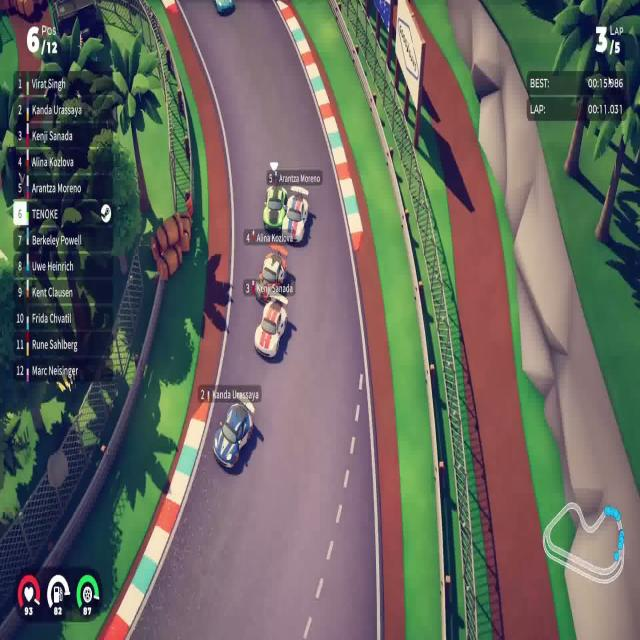car: (212, 398, 255, 470), (253, 292, 288, 360), (260, 242, 286, 302), (281, 192, 309, 244), (262, 182, 288, 232)
